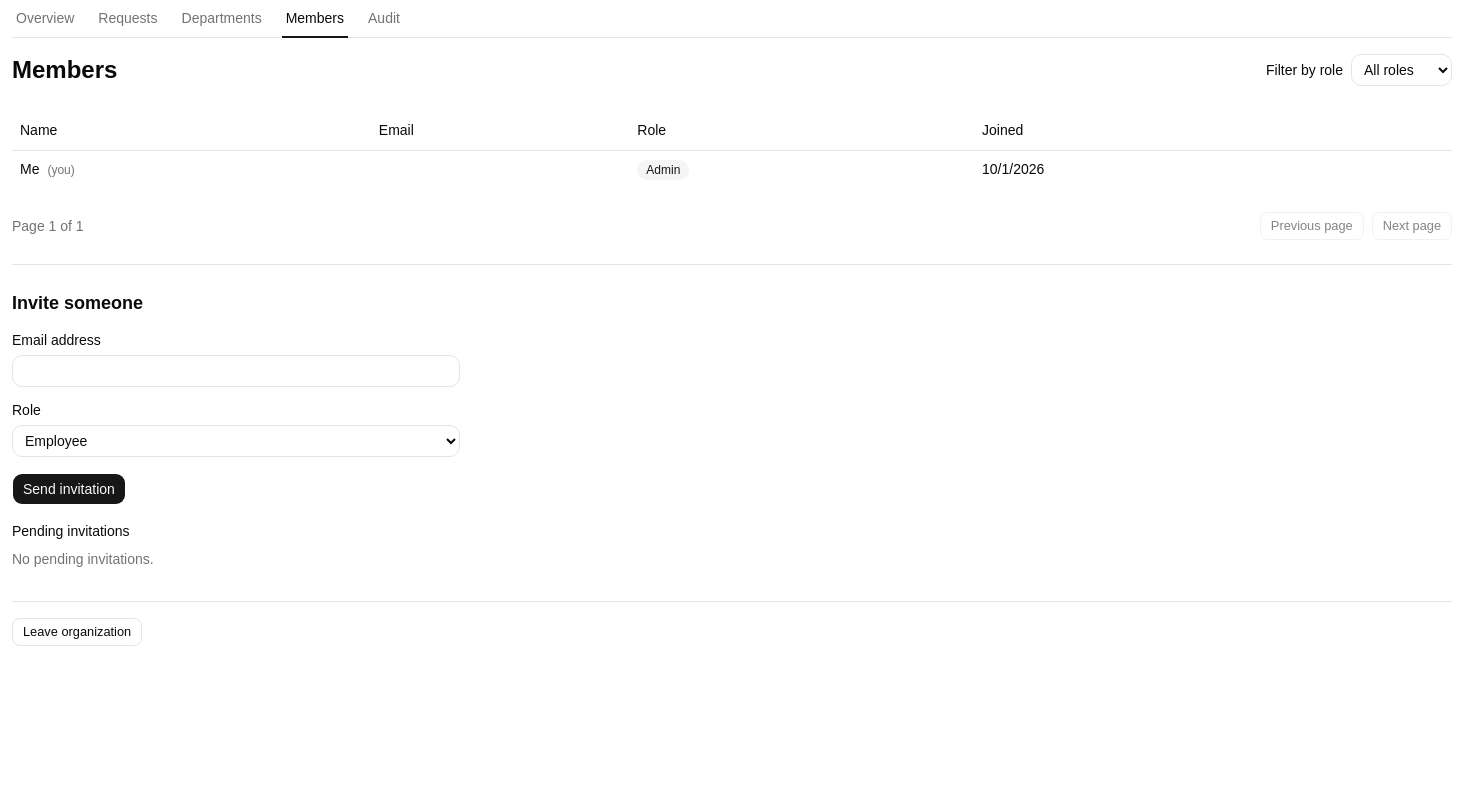
Invitations section › sends an invitation and confirms it
This screenshot has width=1464, height=810.
Type "  new@example.com " into the field labelled "Email address" at (236, 370), box [12,354,460,386]
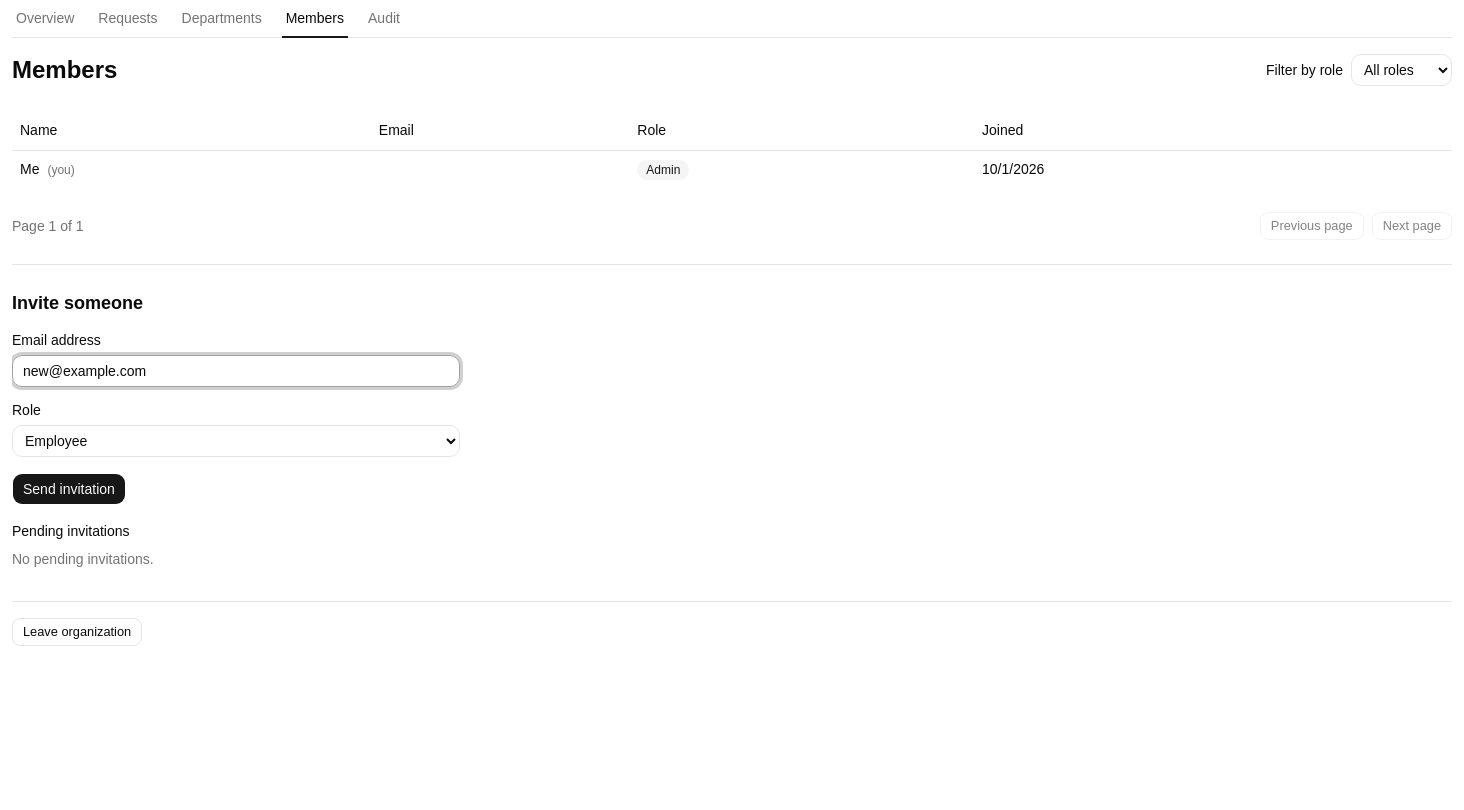
Select "Manager" in the dropdown labelled "Role" at (236, 440), box [12,424,460,456]
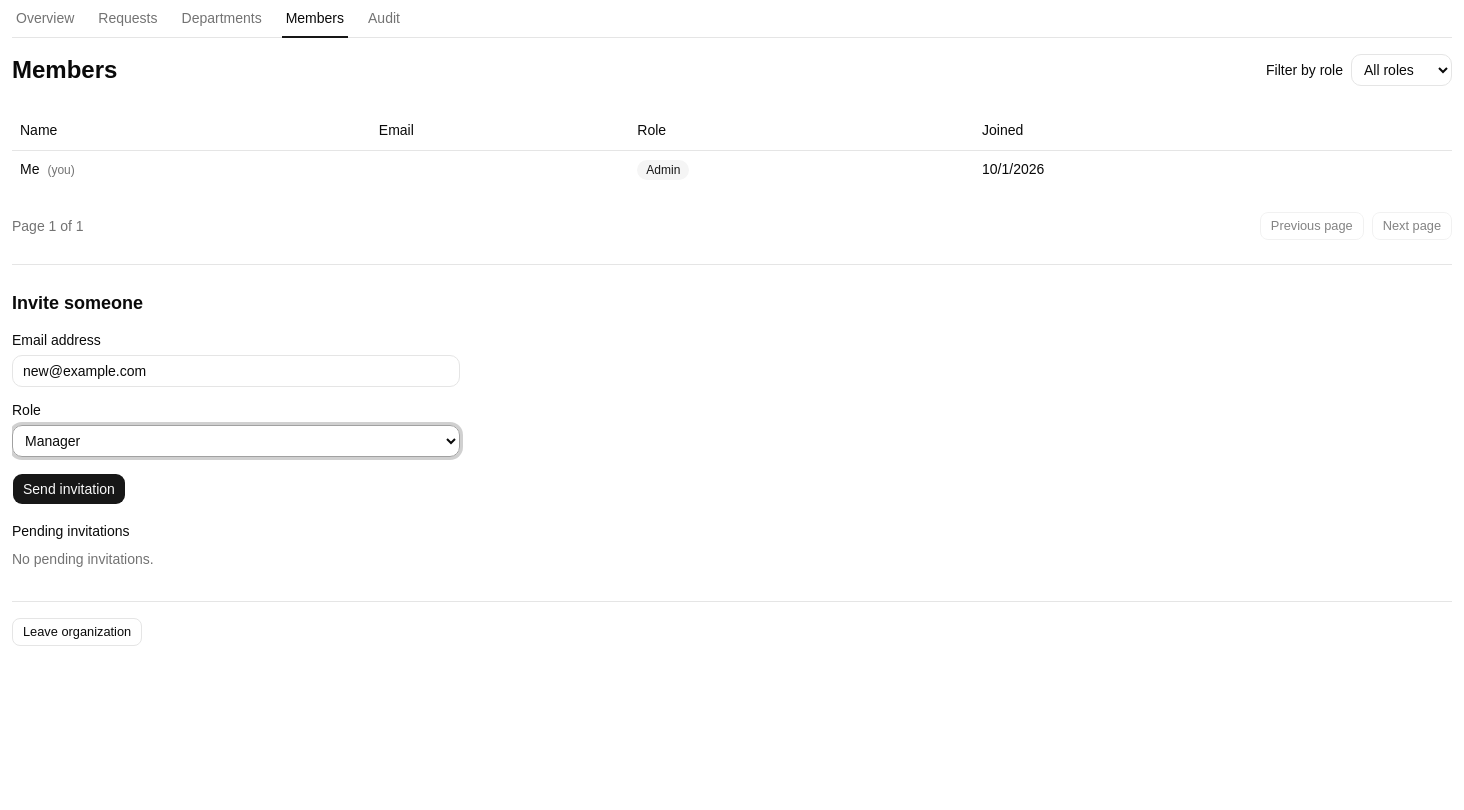
Click the button "Send invitation" at (69, 488), box [12,472,126,504]
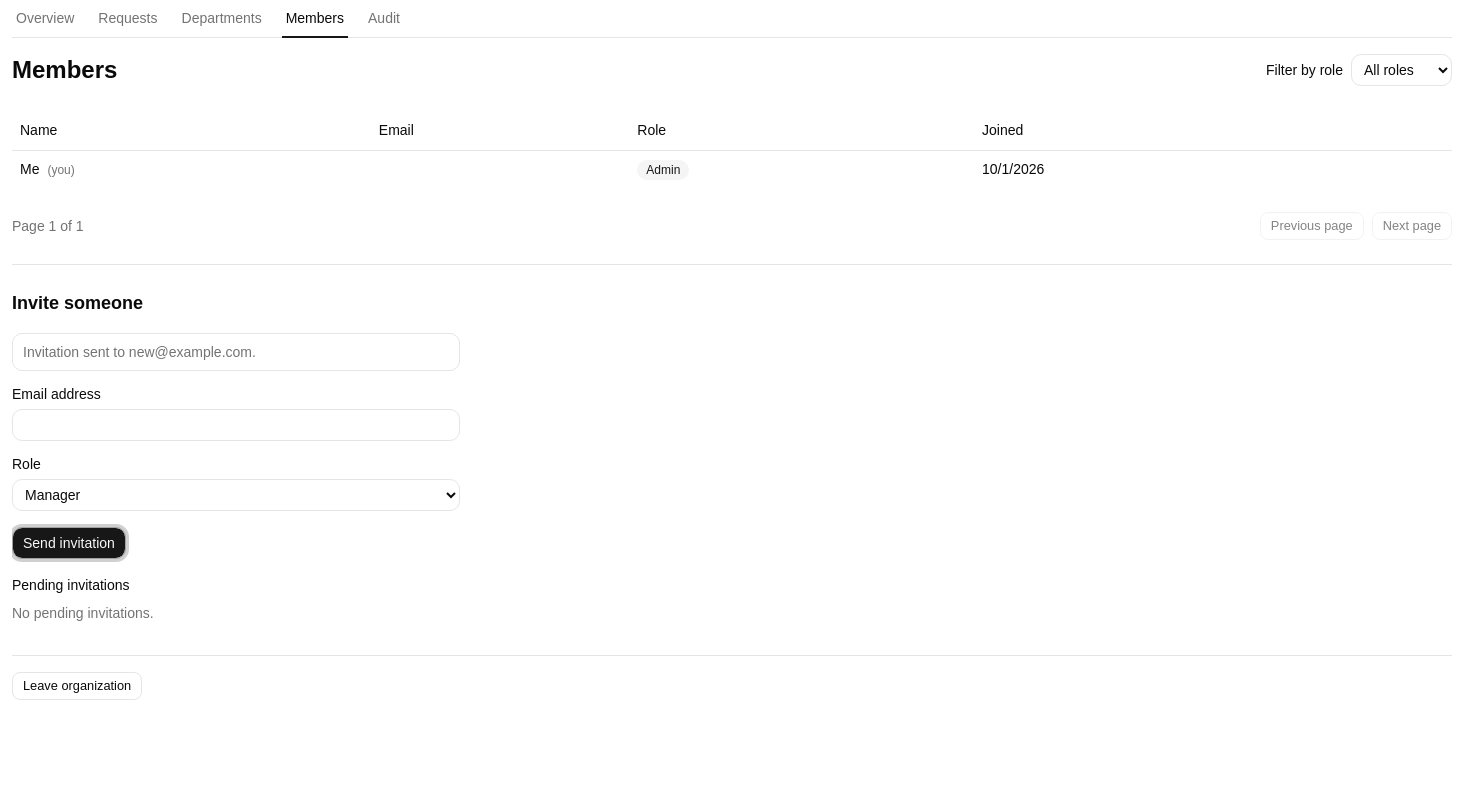
Now the text "Invitation sent to new@example.com." is shown, box [23,344,256,360]
